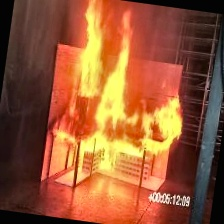fire: (45, 0, 199, 198)
